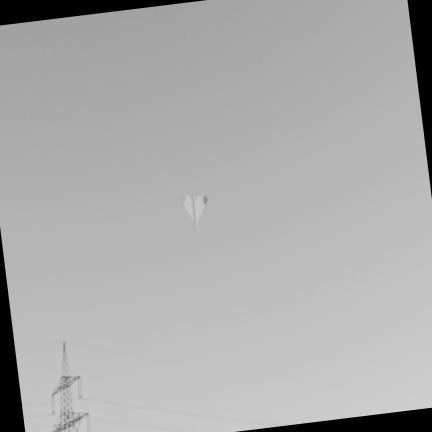Shahed: (179, 194, 208, 231)
